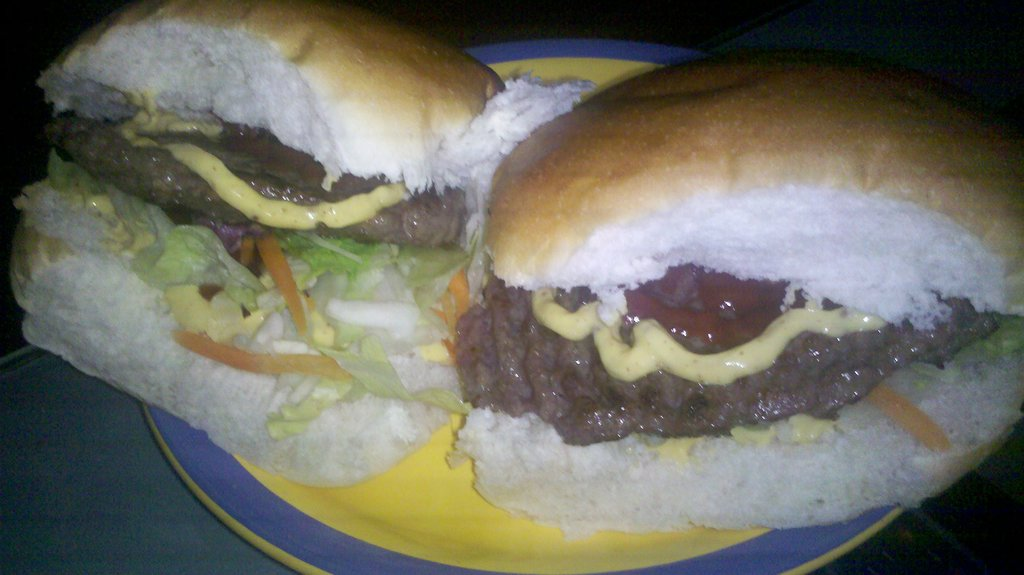Hamburger: (8, 0, 593, 490), (451, 53, 1023, 534)
